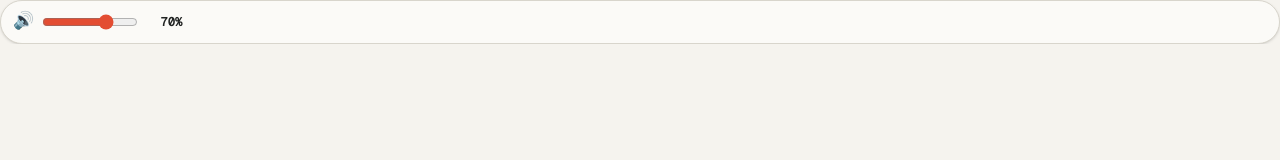
กดลำโพงแล้วเสียงเหลือ 0 ทันที
Click the button named "ปิดเสียง": [24, 22] box x1=13 y1=9 x2=34 y2=34
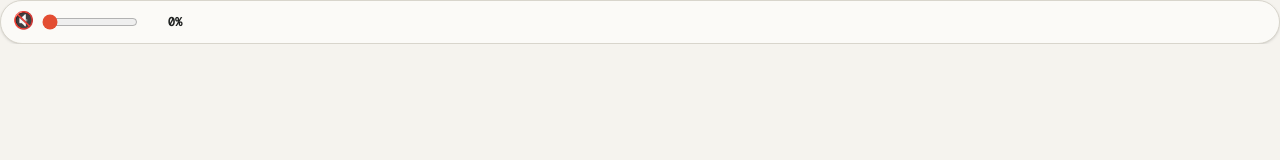
expect the text "0%" is shown: met, box x1=168 y1=14 x2=182 y2=30
expect the text "🔇" is shown: met, box x1=13 y1=8 x2=34 y2=34
